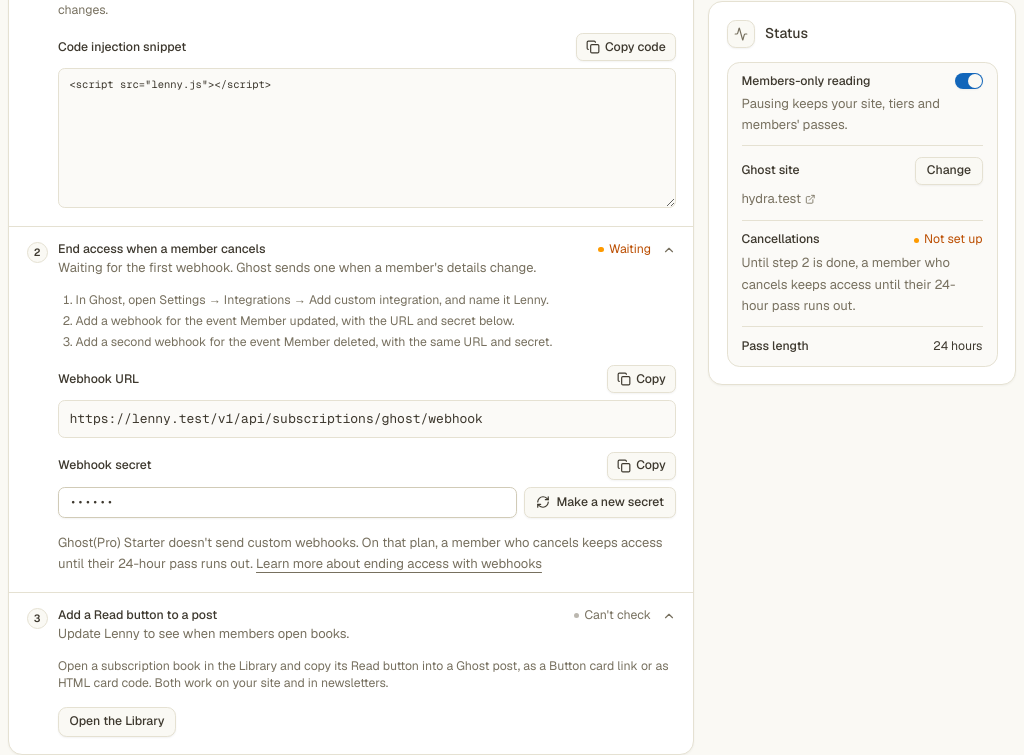
makes a new secret only after confirming, and shows it
(page scrolled)
Check: the password field labelled "Webhook secret" is shown, box [58,486,517,518]
Click the button "Make a new secret": x=600, y=502 [524,486,676,518]
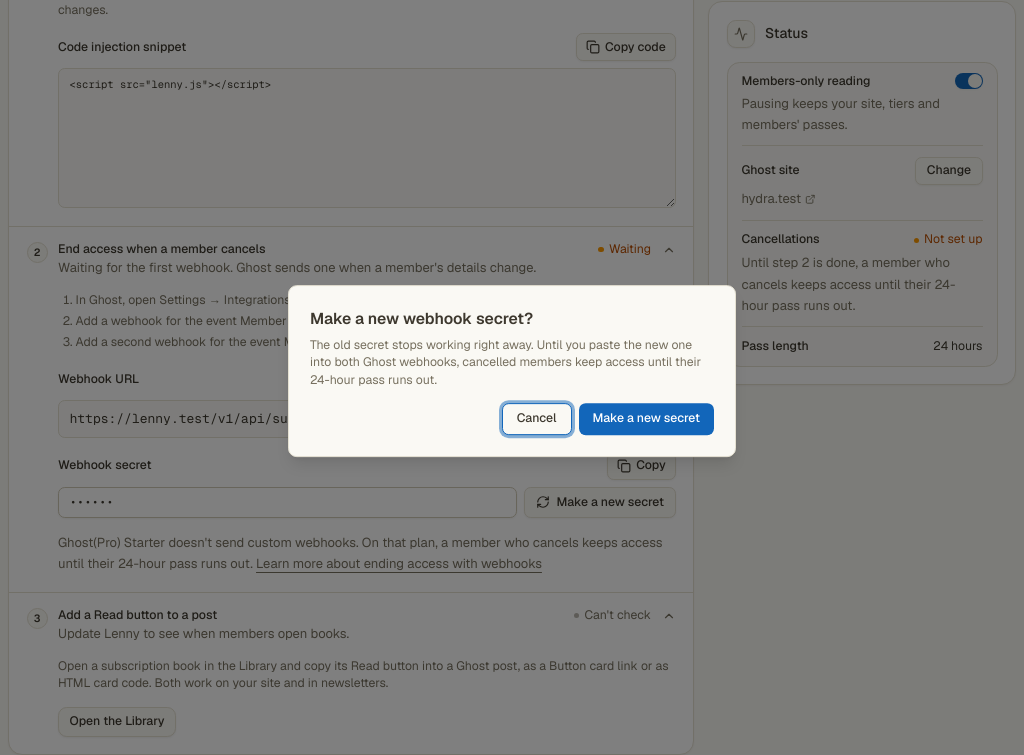
Click the button "Make a new secret": x=646, y=419 [578,403,714,435]
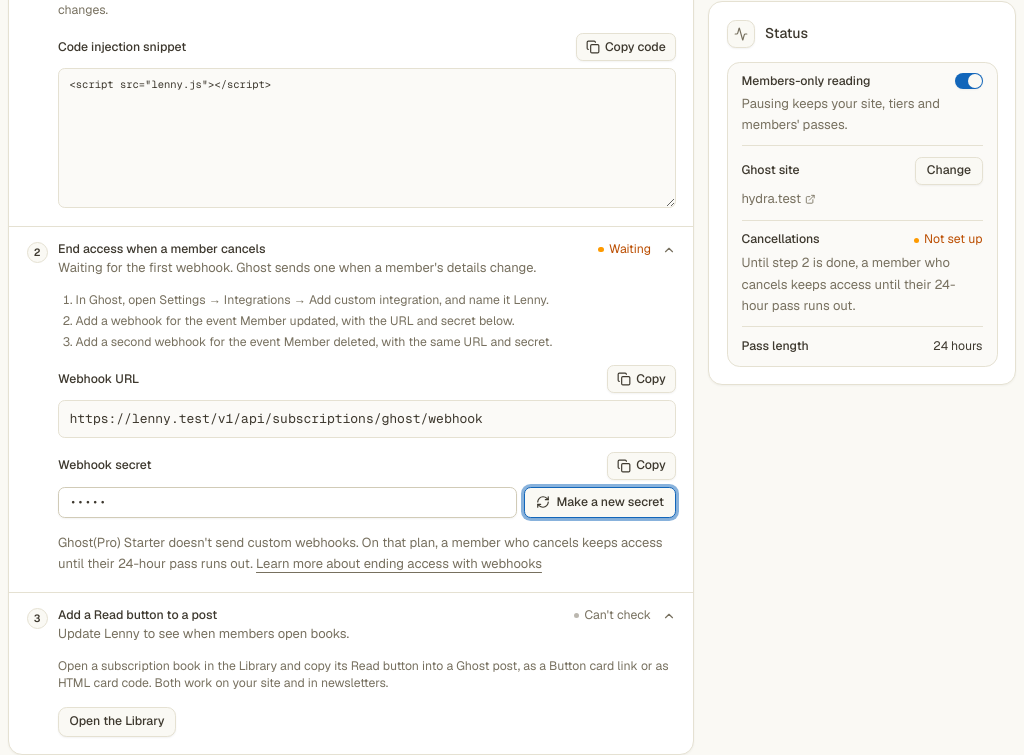
Check: the password field labelled "Webhook secret" holds "fresh", box [58,486,517,518]
